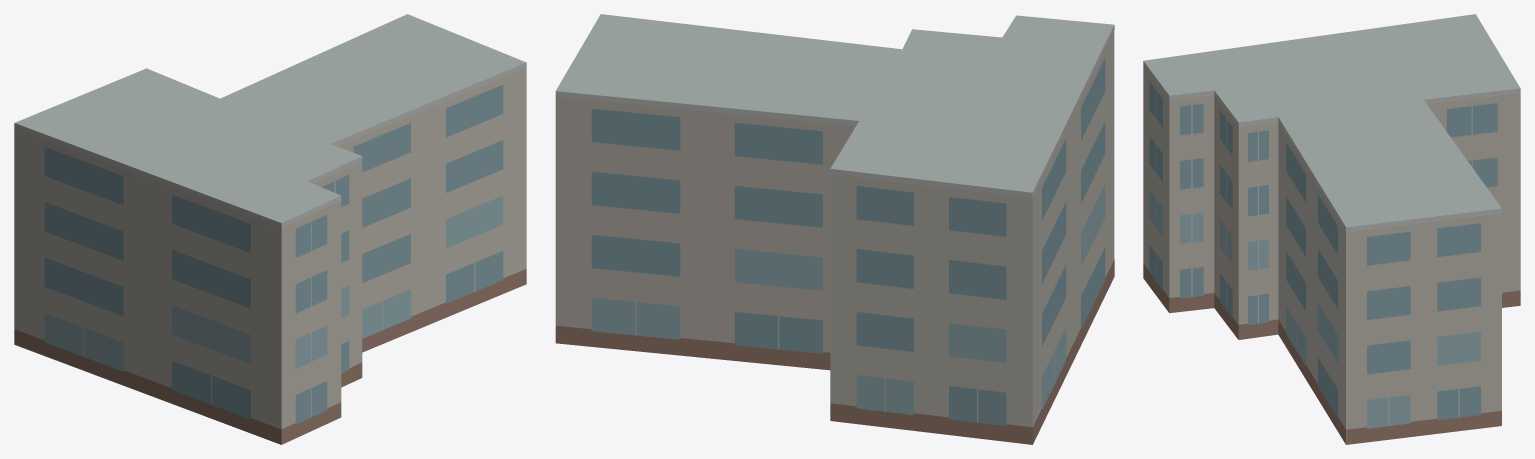
File: survey-upis-32811662.glb
3 renders of one model, left to right at view 1: azimuth 30°, elevation 25°; view 2: azimuth 150°, elevation 25°; view 3: azimuth 270°, elevation 25°, orthographic. The views are drawn at different scales.
Visible parts, largest first — view 1: survey-upis-32811662.tmp; view 2: survey-upis-32811662.tmp; view 3: survey-upis-32811662.tmp.
Boxes of the visible parts, x1,y1,x2,y2 form: survey-upis-32811662.tmp: (14, 14, 526, 444); survey-upis-32811662.tmp: (555, 14, 1114, 444); survey-upis-32811662.tmp: (1143, 14, 1520, 444).
Size of the model in its own units: 22.42 by 10.65 by 16.75.
